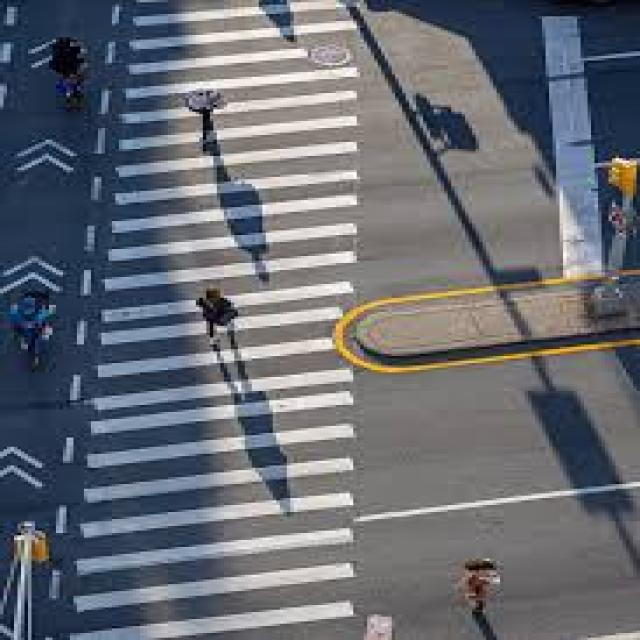Pedestrians: (189, 286, 245, 347), (178, 86, 234, 144), (454, 556, 504, 619)
